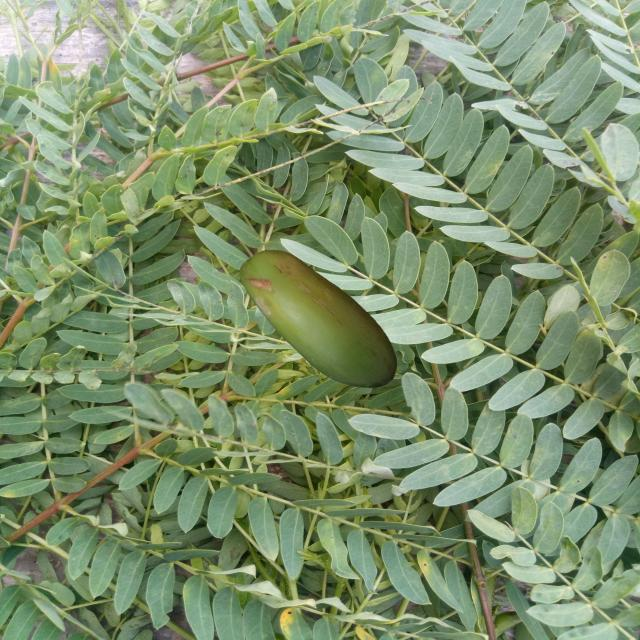Pepaya unrippen: (237, 246, 404, 384)
